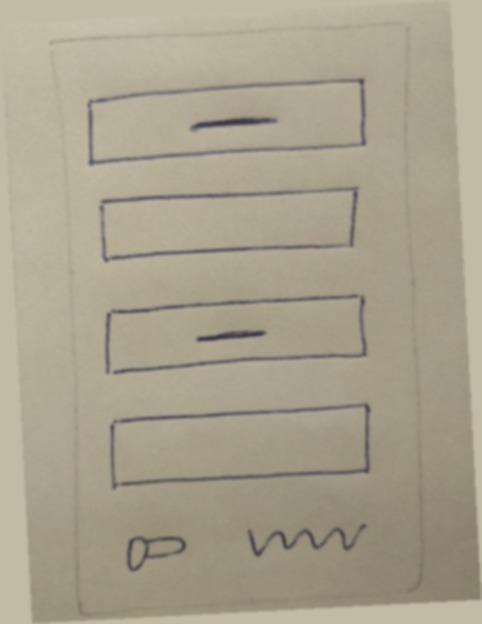button: (89, 282, 384, 388), (77, 70, 372, 176)
switch: (114, 527, 196, 578)
text: (234, 505, 378, 570)
text_input: (97, 398, 380, 495), (88, 178, 370, 275)
